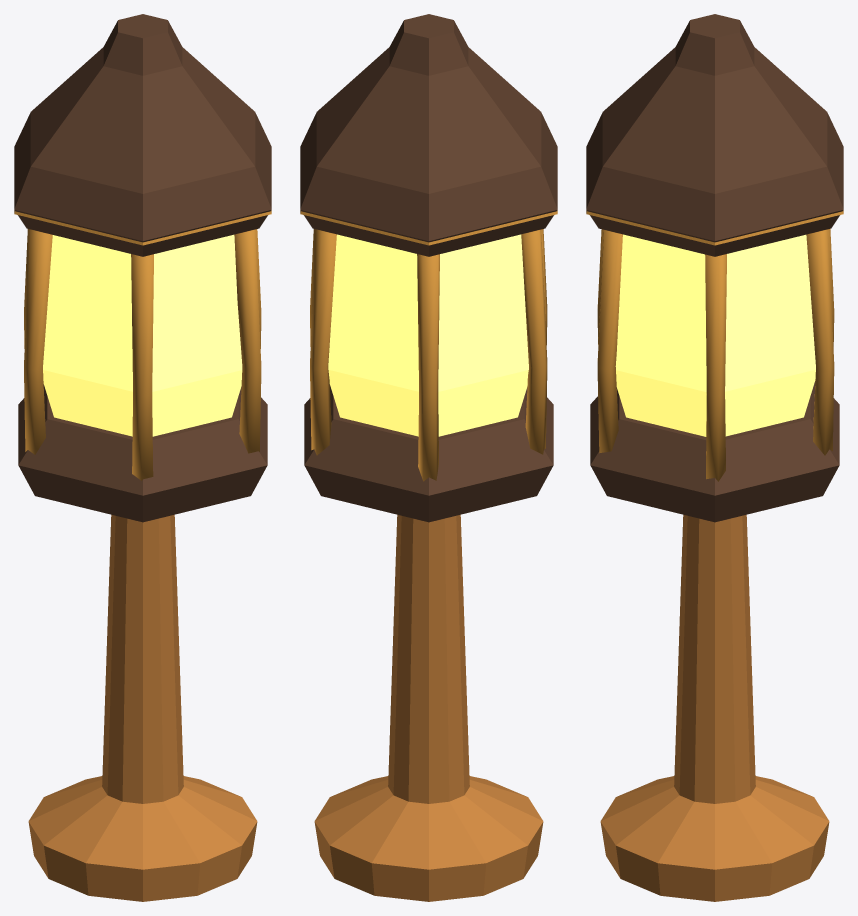
Rendered from lantern.glb.
3 renders of one model, left to right at view 1: azimuth 30°, elevation 25°; view 2: azimuth 150°, elevation 25°; view 3: azimuth 270°, elevation 25°, orthographic.
Visible parts, largest first — view 1: lantern · Patinated bronze, lantern · Hammered gold, lantern · Amber lamp glass, lantern · Hammered brass; view 2: lantern · Patinated bronze, lantern · Hammered gold, lantern · Amber lamp glass, lantern · Hammered brass; view 3: lantern · Patinated bronze, lantern · Hammered gold, lantern · Amber lamp glass, lantern · Hammered brass.
Part boxes in pixels (x1=…): lantern · Patinated bronze: x1=14, y1=14, x2=271, y2=522; lantern · Hammered gold: x1=28, y1=514, x2=257, y2=901; lantern · Amber lamp glass: x1=43, y1=234, x2=242, y2=436; lantern · Hammered brass: x1=14, y1=210, x2=271, y2=480; lantern · Patinated bronze: x1=300, y1=14, x2=557, y2=522; lantern · Hammered gold: x1=314, y1=514, x2=543, y2=901; lantern · Amber lamp glass: x1=328, y1=234, x2=528, y2=436; lantern · Hammered brass: x1=300, y1=210, x2=557, y2=481; lantern · Patinated bronze: x1=586, y1=14, x2=843, y2=522; lantern · Hammered gold: x1=600, y1=514, x2=829, y2=901; lantern · Amber lamp glass: x1=615, y1=234, x2=815, y2=436; lantern · Hammered brass: x1=586, y1=210, x2=843, y2=481.
Bounding box in the file's own units: 0.5456 × 1.68 × 0.4725.
